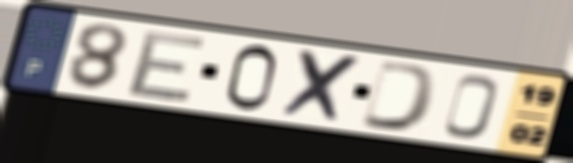0: (442, 73, 503, 140), (224, 43, 279, 113)
8: (66, 21, 131, 93)
D: (356, 57, 443, 135)
E: (122, 29, 212, 104)
X: (277, 47, 367, 127)
